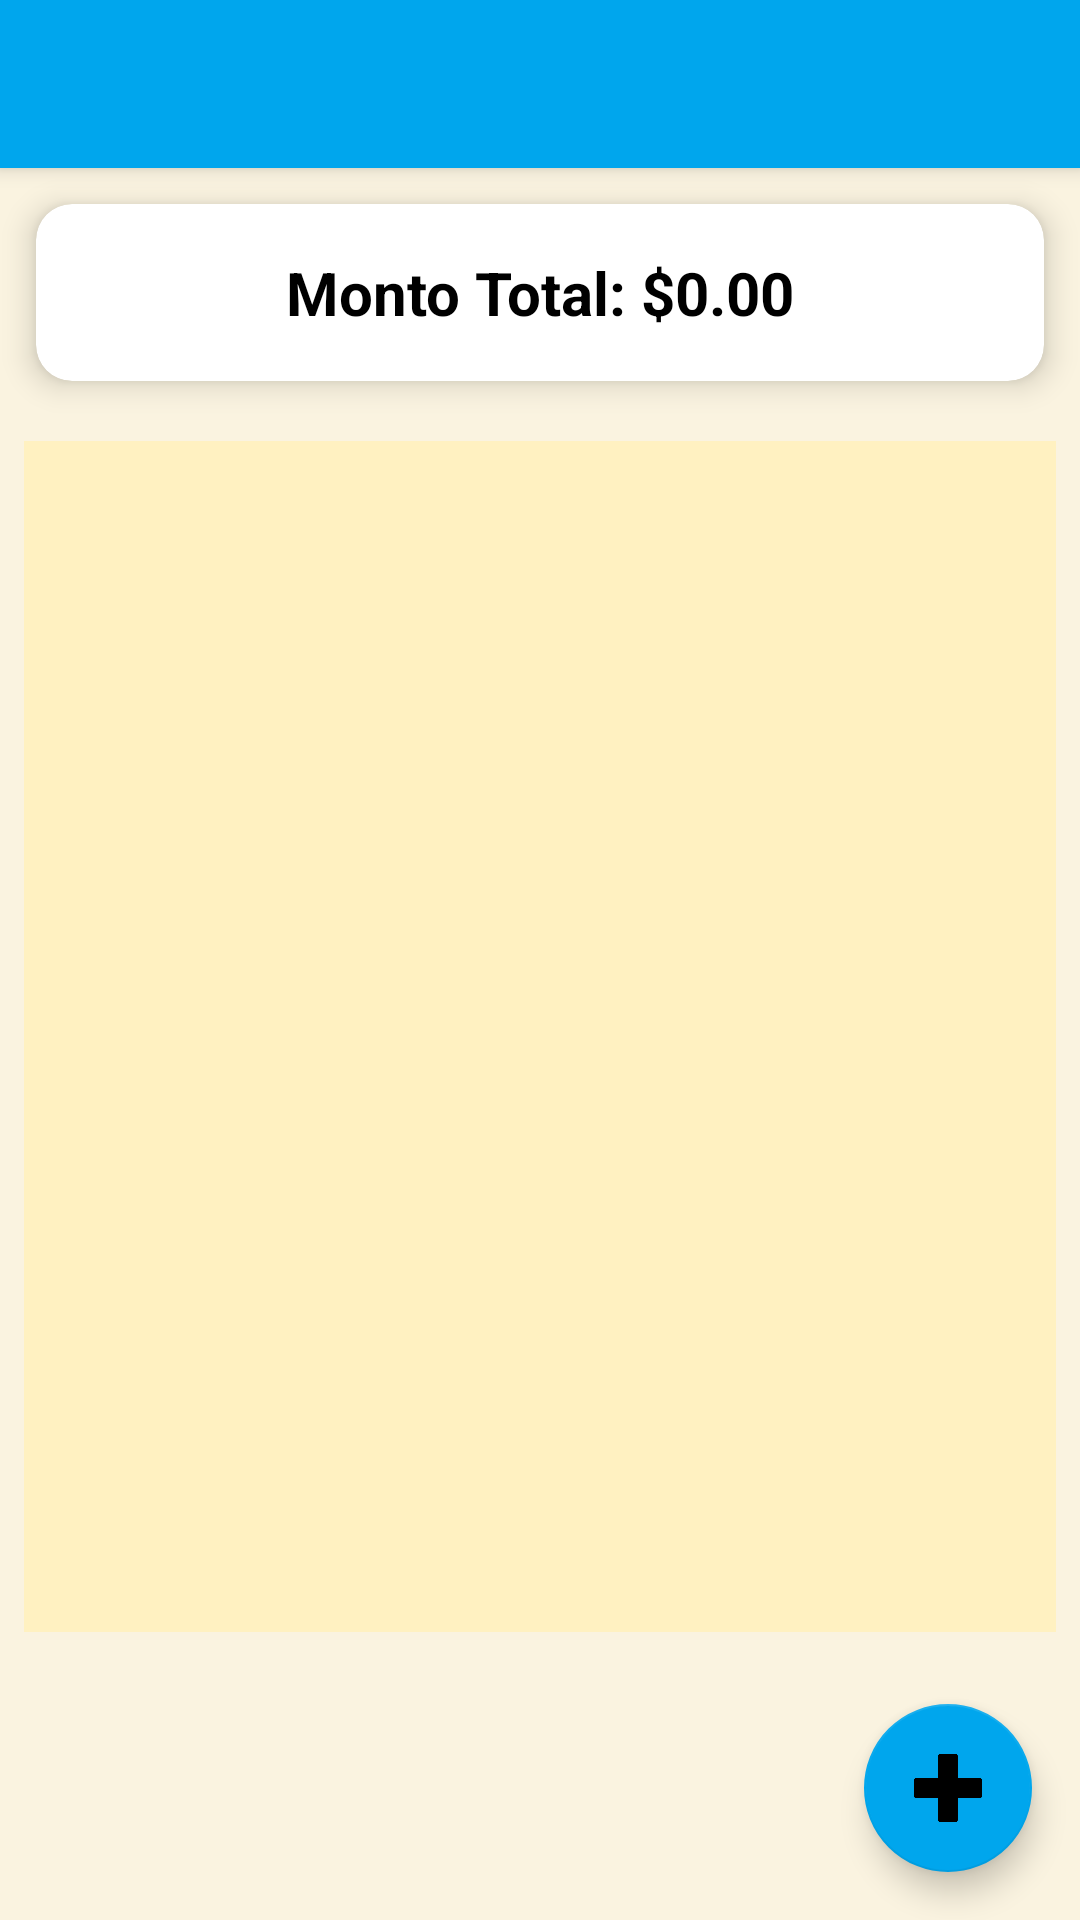

Icons on this 1080px×1920px Android screen, each with its box as (x1, y1, x2, y2):
Agregar gasto: (864, 1704, 1032, 1872)
